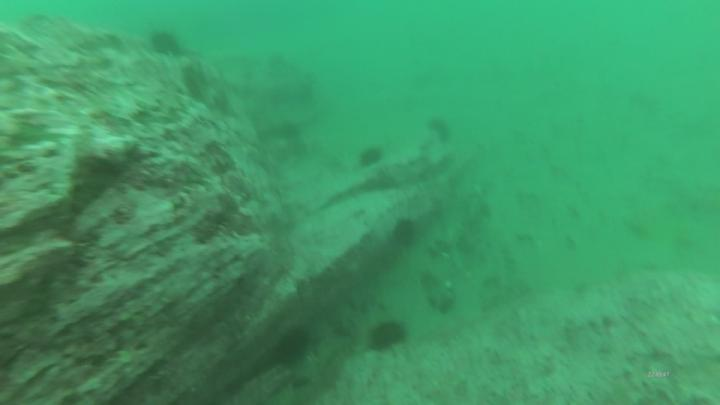echinus: (272, 325, 315, 367), (366, 319, 409, 356), (148, 29, 184, 57), (393, 217, 419, 250), (424, 115, 452, 143), (356, 145, 384, 171)
